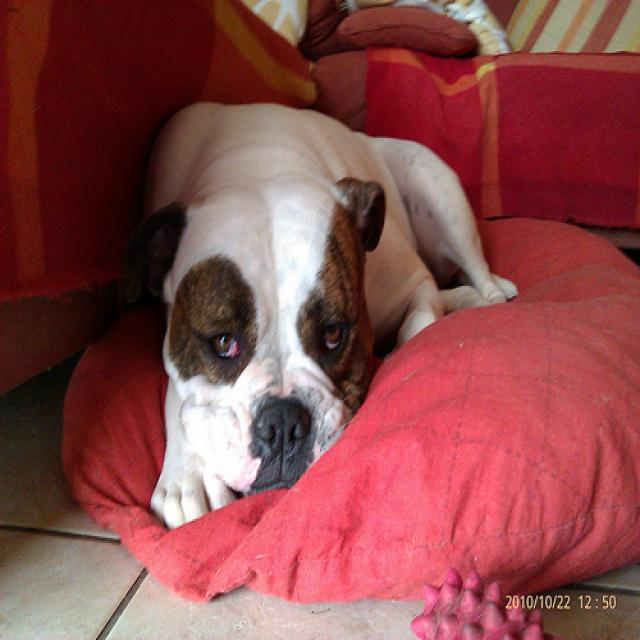dog-american_bulldog: (113, 85, 525, 538)
